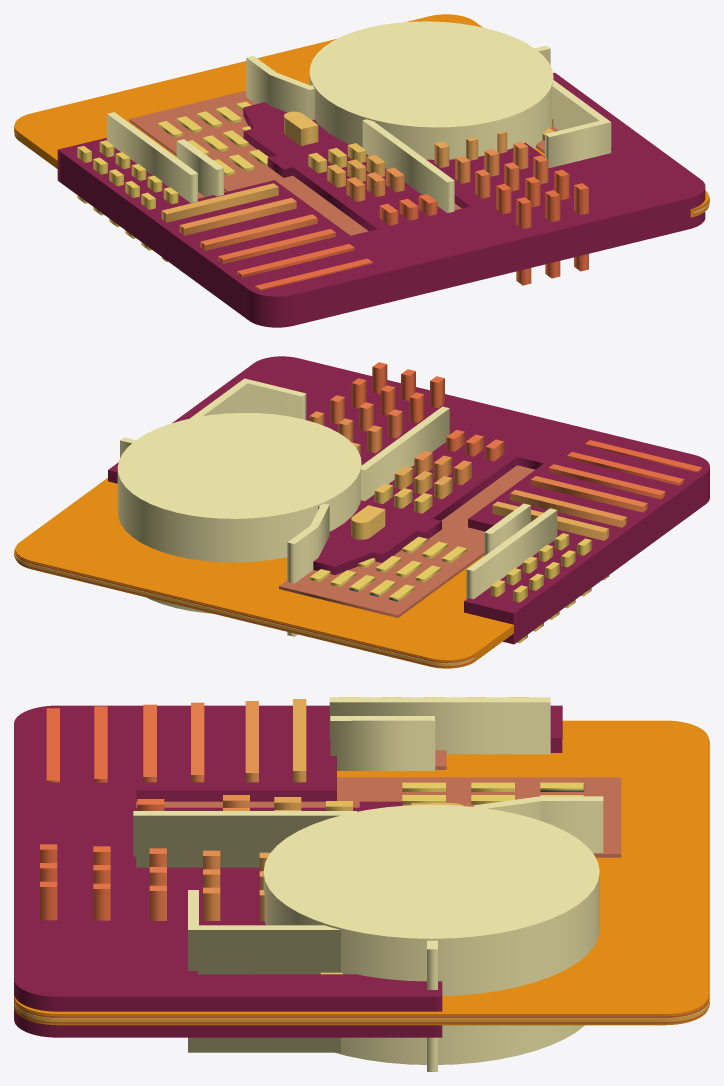
File: emoji_u1f307.glb
The picture shows the model from 3 angles, top to bottom: view 1: azimuth 30°, elevation 25°; view 2: azimuth 150°, elevation 25°; view 3: azimuth 270°, elevation 25°; orthographic projection. The views are drawn at different scales.
Visible parts, largest first — view 1: emoji_u1f307; view 2: emoji_u1f307; view 3: emoji_u1f307.
Boxes of the visible parts, x1,y1,x2,y2 form: emoji_u1f307: [14, 14, 709, 327]; emoji_u1f307: [14, 356, 709, 668]; emoji_u1f307: [14, 697, 709, 1071].
Size of the model in its own units: 0.034 by 0.0068 by 0.034.
